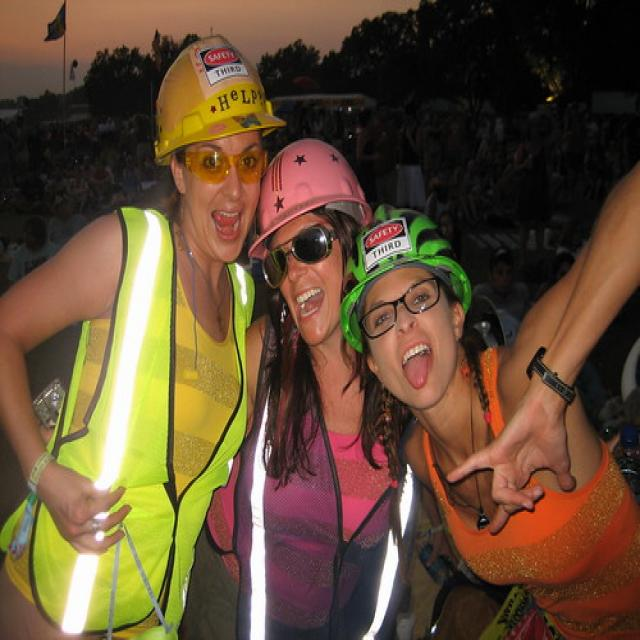Reflective-Jacket: (2, 205, 258, 640)
Safety-Helmet: (148, 34, 286, 162), (343, 207, 475, 319), (256, 131, 374, 244)
